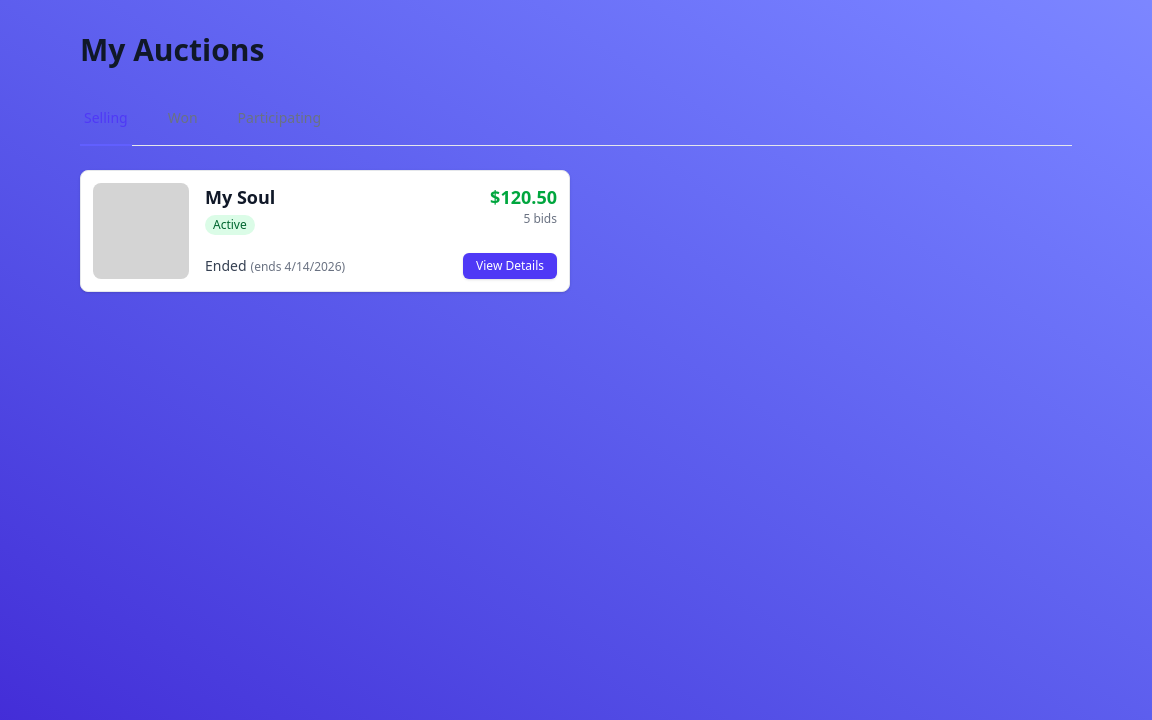
Scenario: UserAuctions Component › switches to Participating tab and shows participating auctions
Step 1. Click the button "Participating" → (279, 119), box [234, 92, 325, 146]
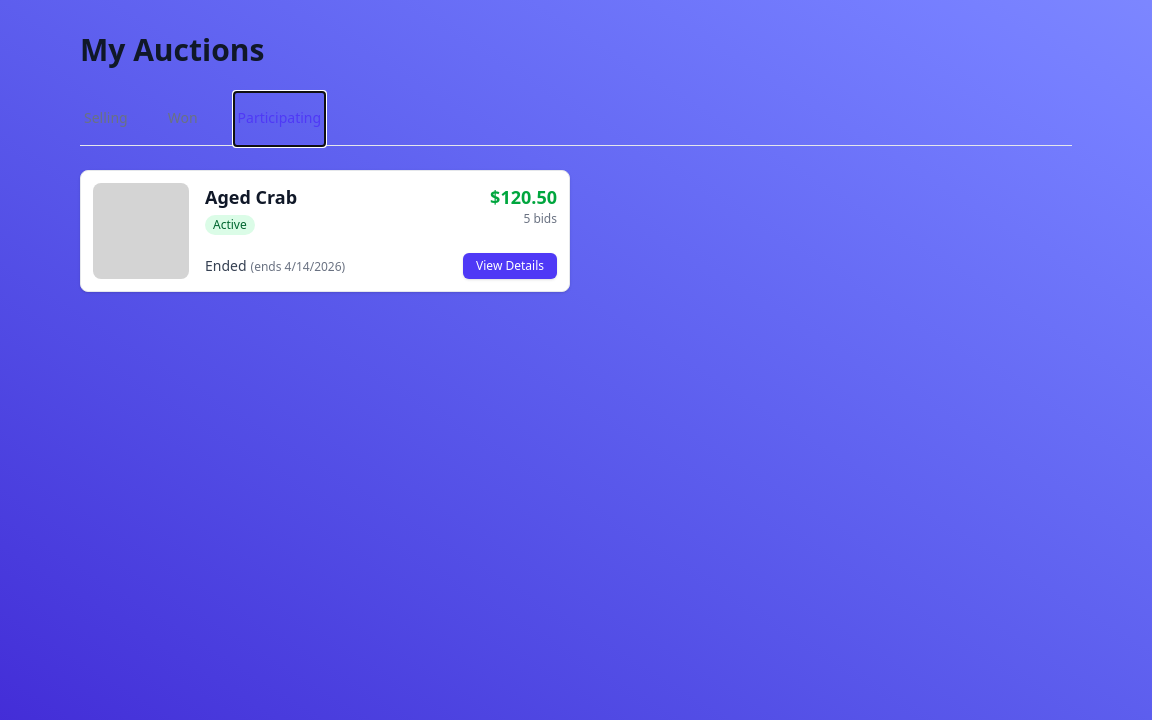
Check: the link "Aged Crab" is shown, box [205, 185, 297, 209]
Check: the link "My Soul" is gone
